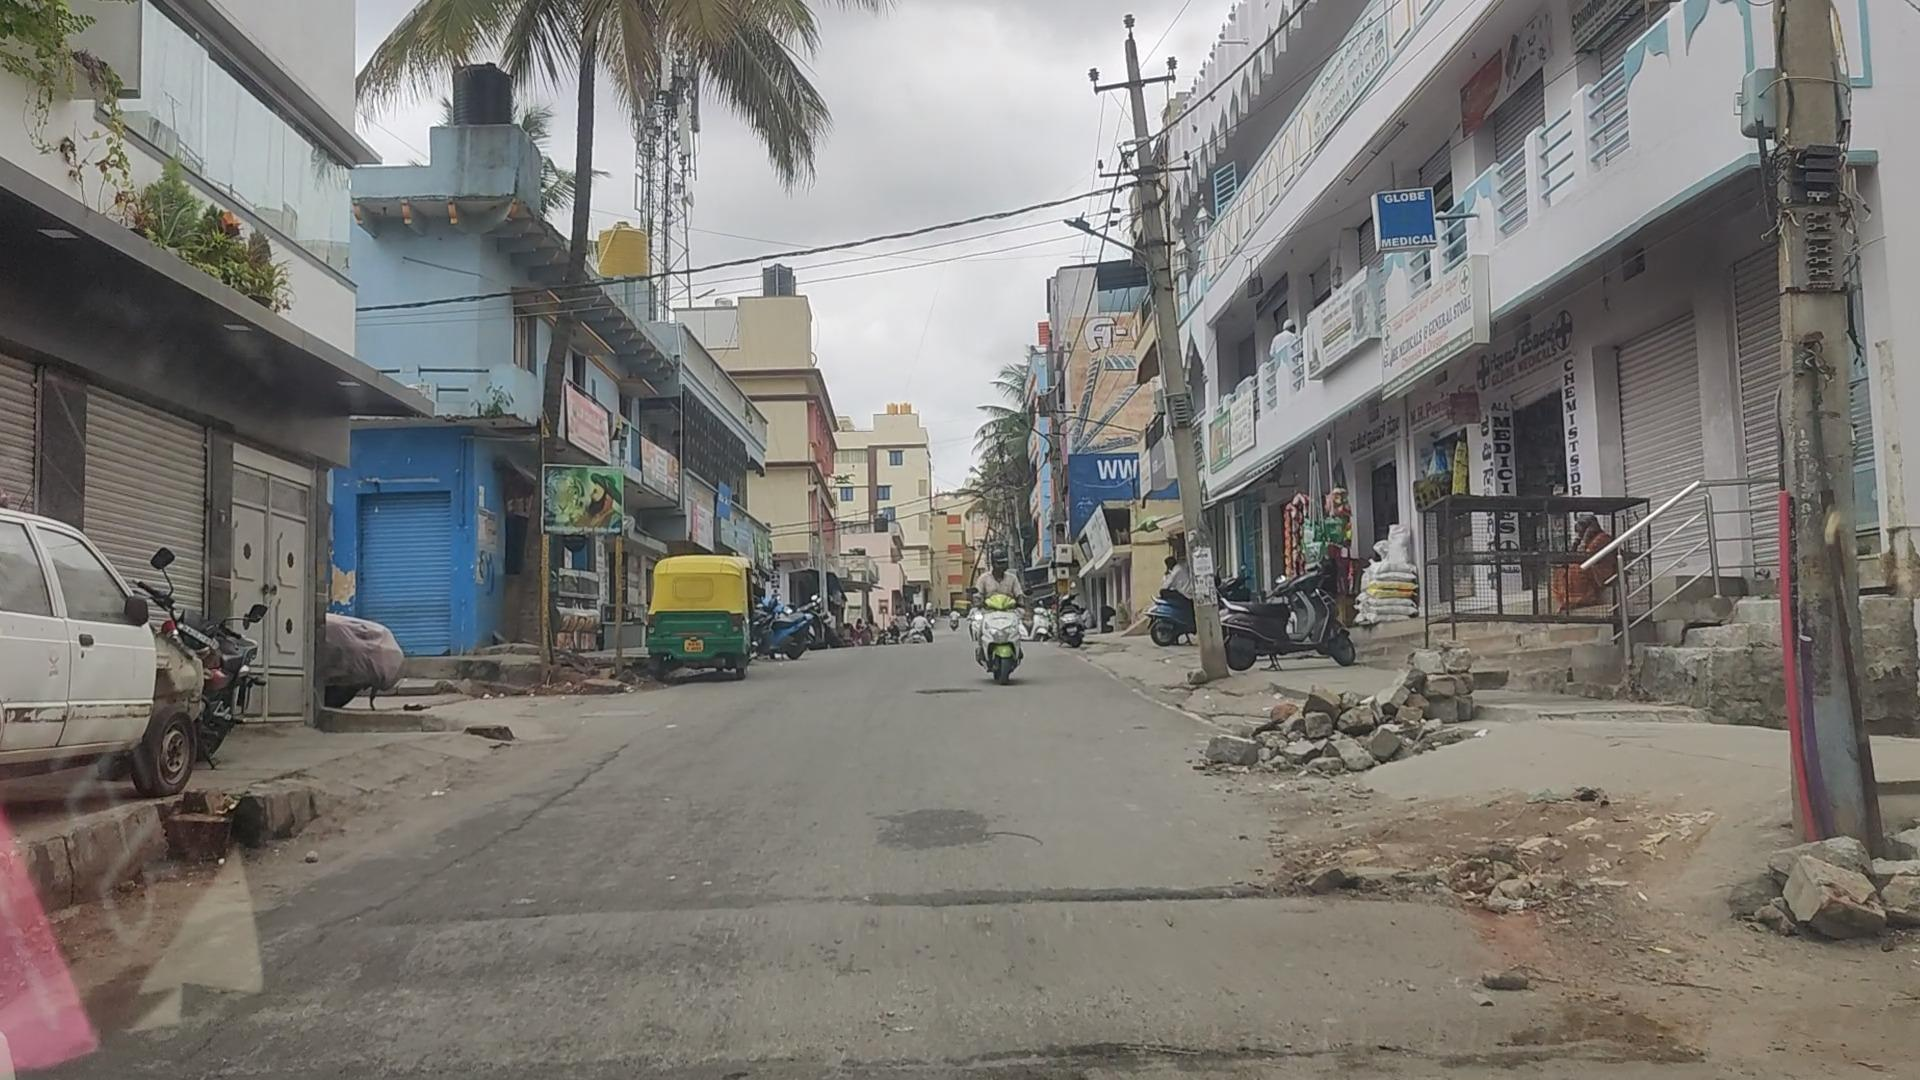RoadDamages: (848, 841, 1395, 932)
